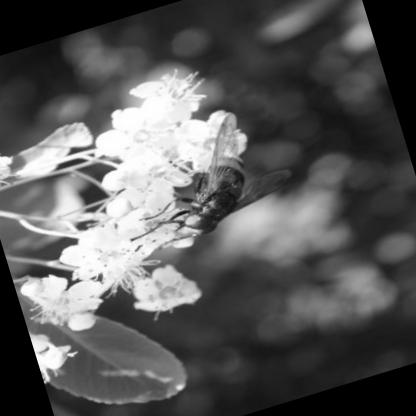asian: (120, 107, 300, 252)
